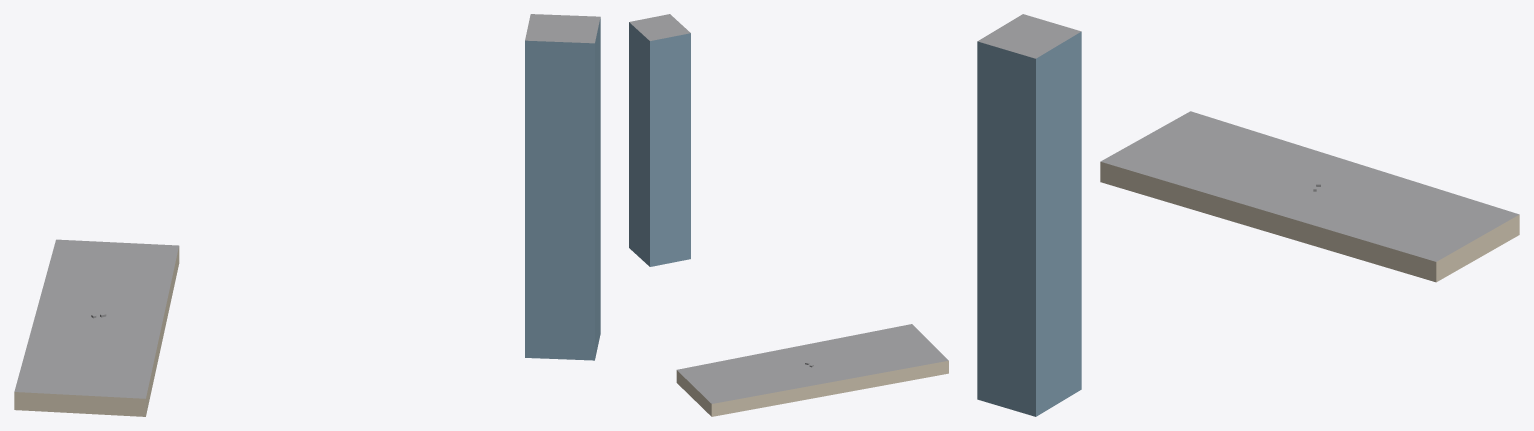
Rendered from building_-5_0.glb.
3 views of the same model, side by side, from view 1: azimuth 30°, elevation 25°; view 2: azimuth 150°, elevation 25°; view 3: azimuth 270°, elevation 25° (orthographic). The views are drawn at different scales.
Parts seen in each view (by area): view 1: glass_blue, roof, sandstone; view 2: glass_blue, roof, sandstone; view 3: glass_blue, roof, sandstone.
Part boxes in pixels (x1=…): glass_blue: x1=525, y1=17, x2=600, y2=360; roof: x1=14, y1=14, x2=600, y2=398; sandstone: x1=14, y1=246, x2=179, y2=416; glass_blue: x1=629, y1=22, x2=690, y2=266; roof: x1=629, y1=14, x2=948, y2=403; sandstone: x1=676, y1=360, x2=948, y2=416; glass_blue: x1=977, y1=31, x2=1081, y2=416; roof: x1=977, y1=14, x2=1519, y2=261; sandstone: x1=1100, y1=161, x2=1519, y2=282.
Size of the model in its own units: 292 by 171 by 235.
